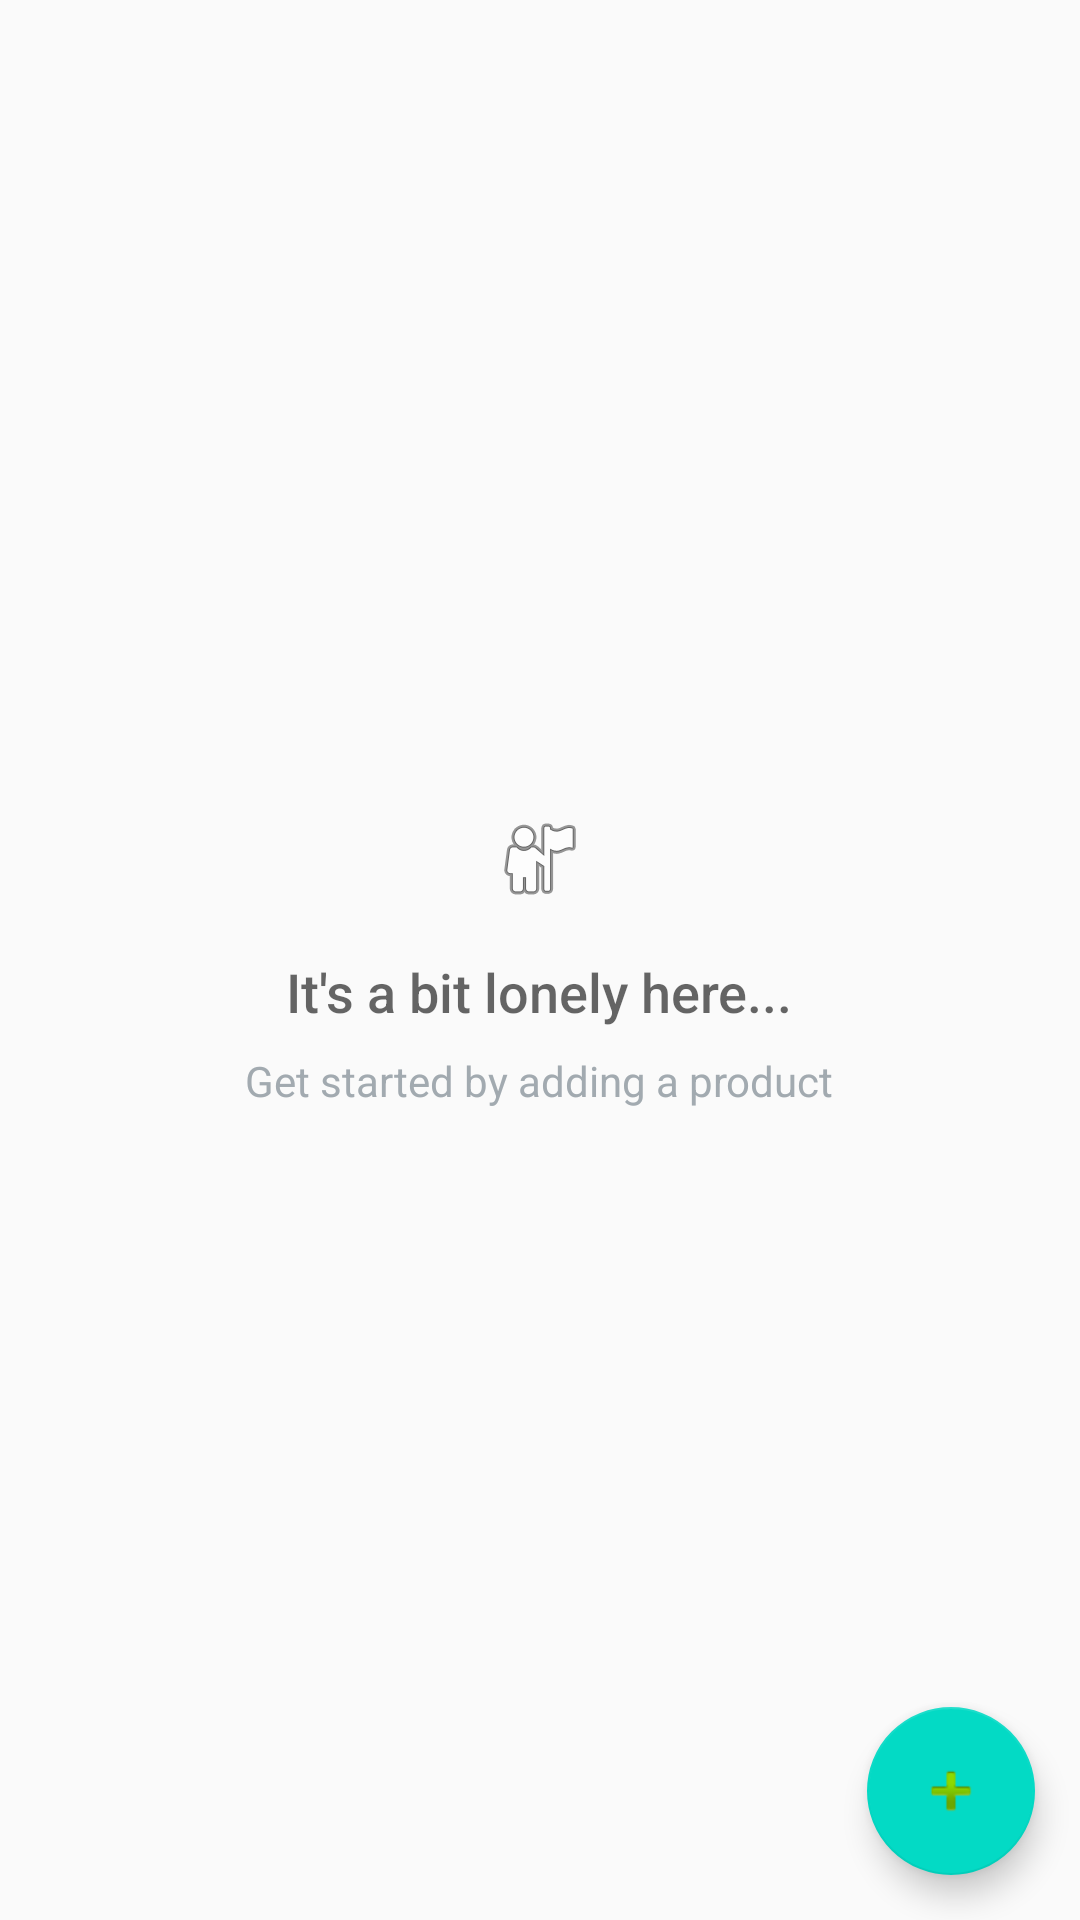

Named icons in this screenshot (1080×1920) and their bounding boxes, (x1, y1, x2, y2):
add: (867, 1707, 1035, 1875)
